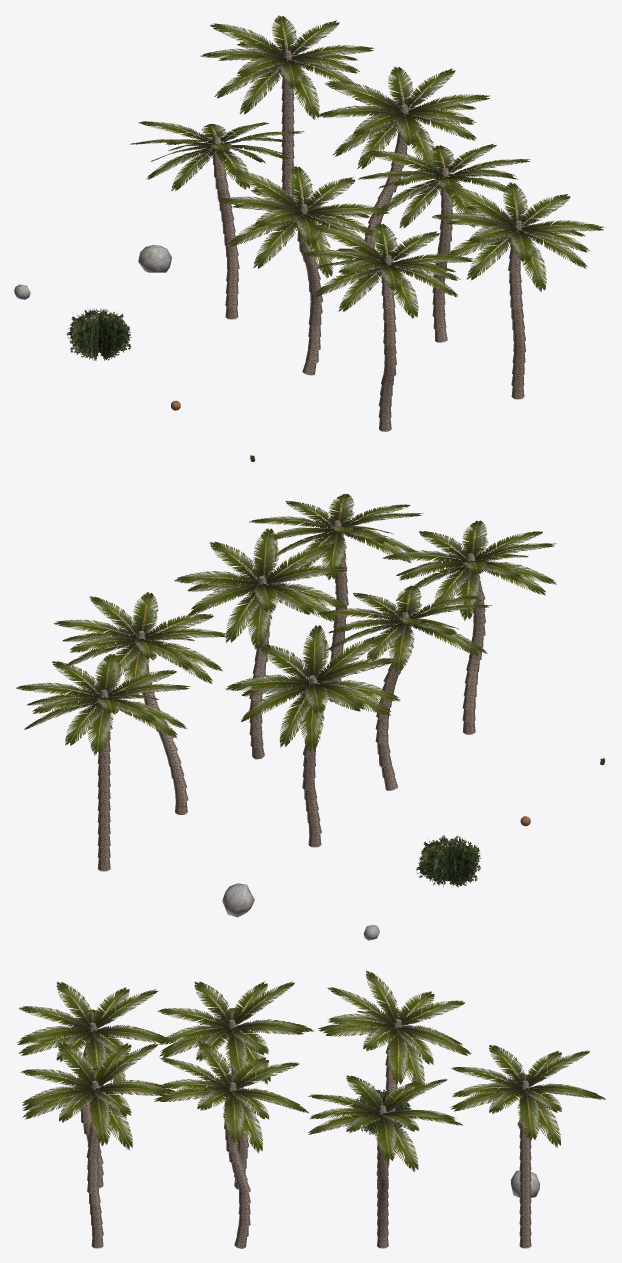
Rendered from palm_tree.fbx.
The picture shows the model from 3 angles, top to bottom: view 1: azimuth 30°, elevation 25°; view 2: azimuth 150°, elevation 25°; view 3: azimuth 270°, elevation 25°; orthographic projection. The views are drawn at different scales.
Parts seen in each view (by area): view 1: palm_tree.003, palm_tree, palm_tree.005, palm_tree.002, leaves, palm_tree.001, palm_tree.004, bush, trunk, large_stone; view 2: palm_tree.004, palm_tree.001, palm_tree.005, palm_tree.002, leaves, palm_tree, palm_tree.003, bush, trunk, large_stone; view 3: palm_tree.003, palm_tree.001, palm_tree.004, palm_tree, palm_tree.002, palm_tree.005, leaves, trunk, bush, large_stone.
Boxes of the visible parts, x1,y1,x2,y2 form: palm_tree.003: (432, 182, 605, 399); palm_tree: (217, 166, 389, 375); palm_tree.005: (317, 66, 490, 286); palm_tree.002: (301, 223, 474, 431); leaves: (200, 15, 374, 119); palm_tree.001: (358, 144, 530, 342); palm_tree.004: (130, 121, 304, 319); bush: (66, 308, 131, 360); trunk: (281, 50, 294, 230); large_stone: (138, 245, 171, 272); palm_tree.004: (225, 625, 400, 847); palm_tree.001: (174, 528, 347, 759); palm_tree.005: (53, 592, 227, 814); palm_tree.002: (382, 520, 556, 734); leaves: (16, 654, 190, 755); palm_tree: (317, 585, 491, 790); palm_tree.003: (249, 493, 423, 701); bush: (416, 835, 481, 887); trunk: (97, 689, 110, 871); large_stone: (222, 883, 254, 917); palm_tree.003: (20, 1042, 176, 1248); palm_tree.001: (154, 1041, 308, 1248); palm_tree.004: (318, 970, 471, 1185); palm_tree: (157, 981, 313, 1189); palm_tree.002: (17, 982, 167, 1188); palm_tree.005: (308, 1075, 463, 1248); leaves: (450, 1045, 605, 1147); trunk: (519, 1080, 531, 1248); bush: (352, 1089, 411, 1134); large_stone: (510, 1170, 539, 1197).
Bounding box in the file's own units: 3103 × 1525 × 4164.
7 materials, 7 textured.
